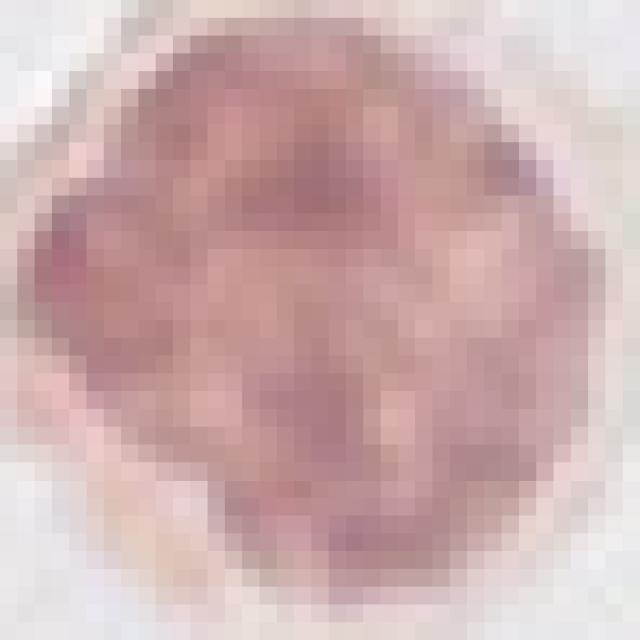cytoplasm: (0, 0, 623, 622)
